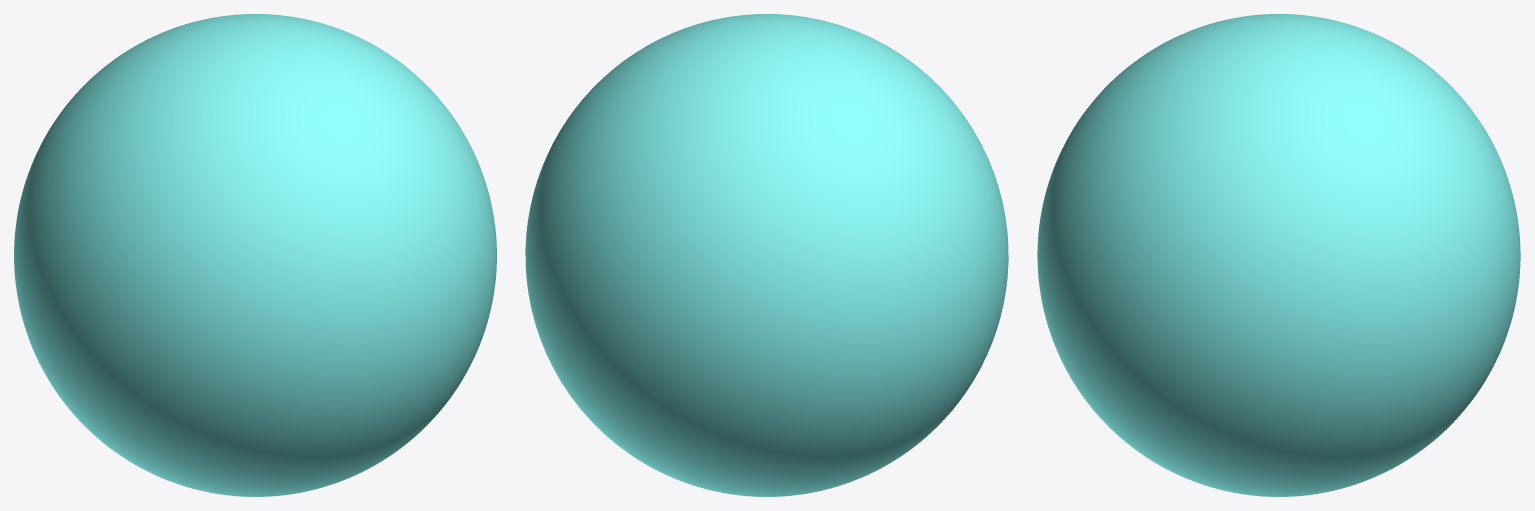
File: prota inicial.glb
The picture shows the model from 3 angles, left to right: view 1: azimuth 30°, elevation 25°; view 2: azimuth 150°, elevation 25°; view 3: azimuth 270°, elevation 25°; orthographic projection.
Parts seen in each view (by area): view 1: node_id30; view 2: node_id30; view 3: node_id30.
Part boxes in pixels (x1,y1,x2,y2): node_id30: (14,14,496,496); node_id30: (525,14,1008,496); node_id30: (1037,14,1520,496).
Size of the model in its own units: 0.3209 by 0.3209 by 0.3209.
1 material, 1 textured.
